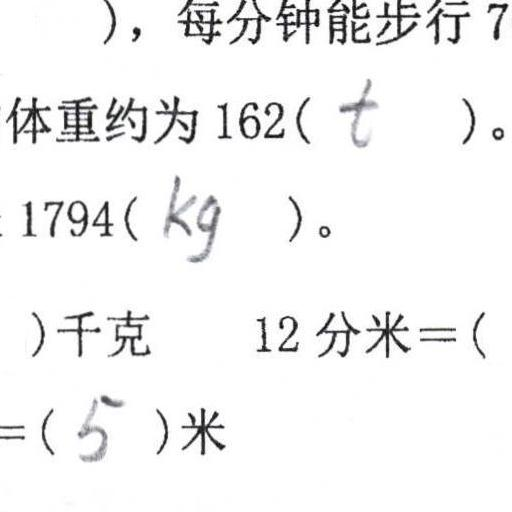ans: (158, 170, 223, 264), (70, 387, 124, 464), (331, 73, 379, 150)
